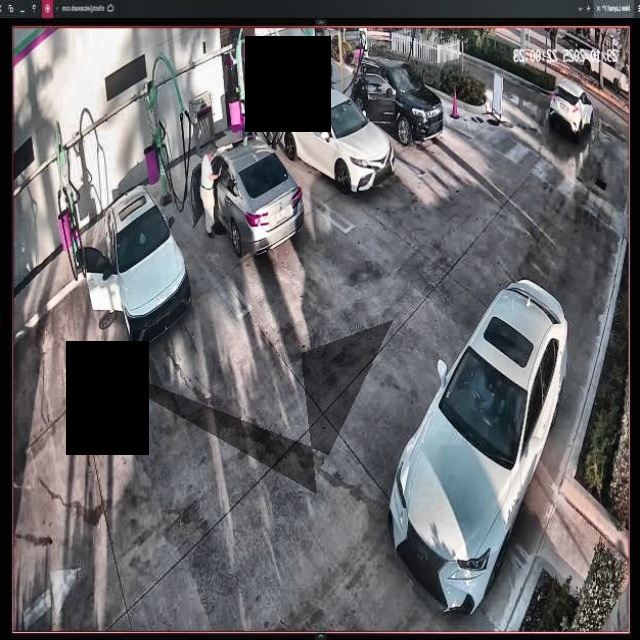Car: (385, 279, 566, 611), (85, 187, 190, 341), (192, 134, 303, 256), (278, 88, 391, 192), (352, 59, 444, 142)
